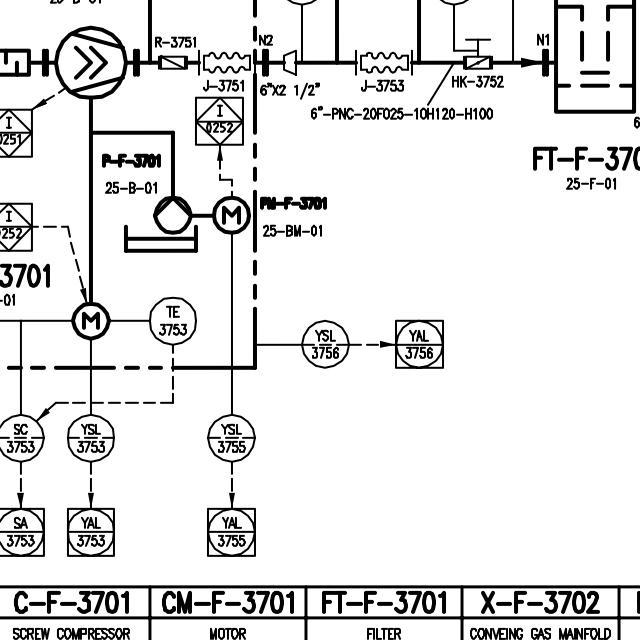BV: (459, 35, 497, 72)
C: (55, 24, 128, 99)
CV2: (155, 52, 188, 73)
EJ: (352, 47, 415, 78), (195, 49, 256, 73)
FT1: (549, 0, 638, 119)
M: (210, 192, 251, 235), (70, 301, 113, 339)
P: (150, 193, 194, 233)
SP: (280, 47, 298, 78)
